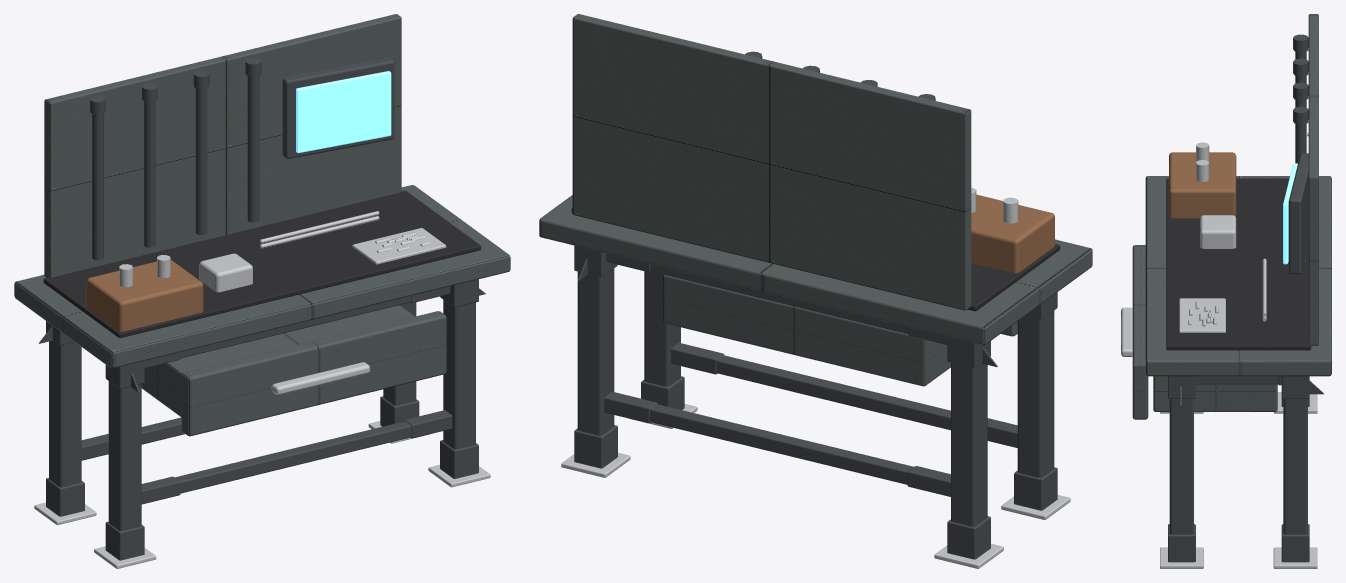
File: fps-survival-forest-outpost-gunsmith-bench-71201a3d__32623.glb
3 views of the same model, side by side, from view 1: azimuth 30°, elevation 25°; view 2: azimuth 150°, elevation 25°; view 3: azimuth 270°, elevation 25° (orthographic). The views are drawn at different scales.
Visible parts, largest first — view 1: gunsmith-bench, drawer-0/panel, drawer-0/steel; view 2: gunsmith-bench, drawer-0/panel; view 3: gunsmith-bench, drawer-0/panel, drawer-0/steel.
Boxes of the visible parts, x1,y1,x2,y2 form: gunsmith-bench: [14, 14, 510, 568]; drawer-0/panel: [141, 305, 446, 436]; drawer-0/steel: [271, 362, 369, 394]; gunsmith-bench: [539, 14, 1092, 568]; drawer-0/panel: [662, 274, 1017, 386]; gunsmith-bench: [1145, 14, 1331, 568]; drawer-0/panel: [1132, 245, 1277, 419]; drawer-0/steel: [1121, 307, 1132, 356].
Size of the model in its own units: 1.7 by 1.67 by 0.815.
6 materials, 1 textured.
